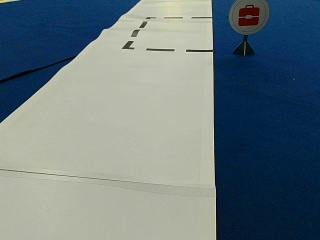company: (229, 0, 269, 33)
